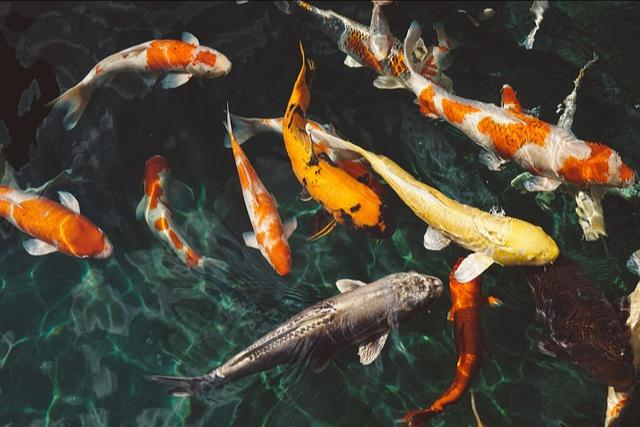Non_Gorille: (34, 24, 616, 386)
